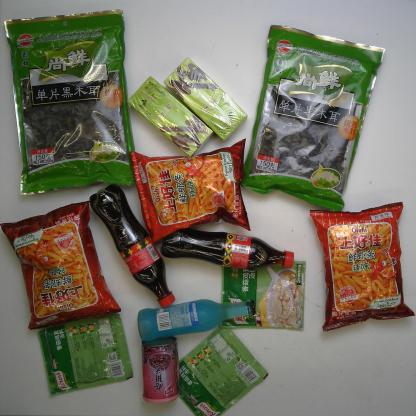Alcohol: (136, 298, 258, 342)
Canned Food: (140, 335, 181, 404)
Dried Food: (240, 23, 388, 212), (2, 8, 138, 199)
Drink: (89, 176, 176, 307), (159, 227, 295, 271)
Instant Drink: (126, 74, 215, 158), (162, 56, 248, 141)
Puffed Food: (0, 198, 122, 332), (308, 200, 416, 332), (127, 136, 252, 245)
Seasoner: (176, 324, 270, 416), (32, 313, 134, 397), (218, 258, 308, 335)
